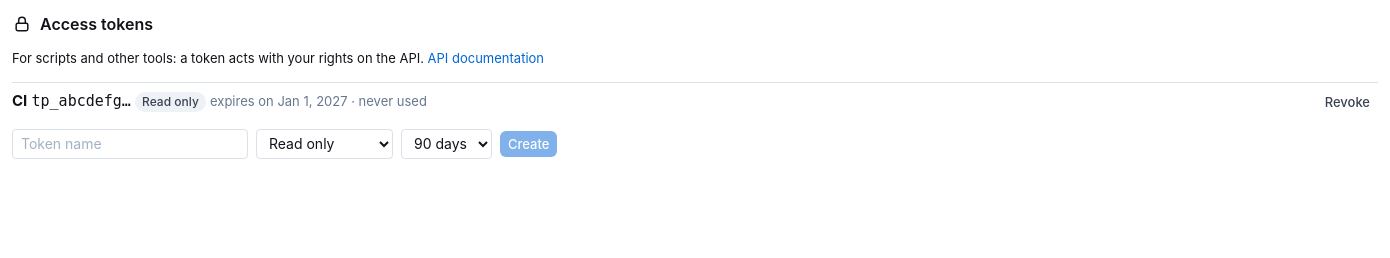
access tokens › are created with a scope and a lifetime, and shown once
In the field labelled "Token name": (130, 144) [12,128,248,158], type "Script"
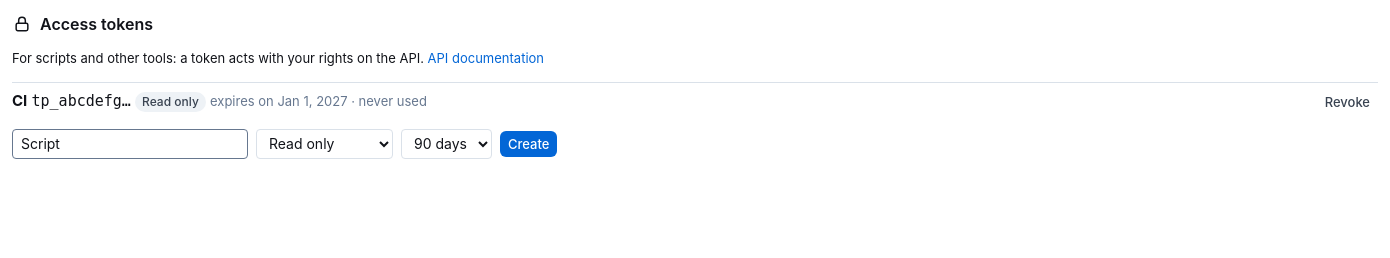
Select "Read and write" in the dropdown named "What the token may do": (324, 144) [256,128,393,158]
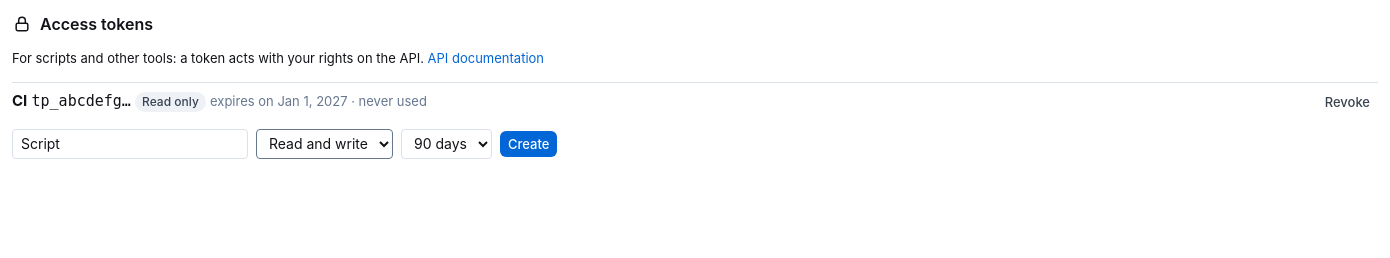
Select "1 year" in the dropdown named "Valid for": (446, 144) [401,128,492,158]
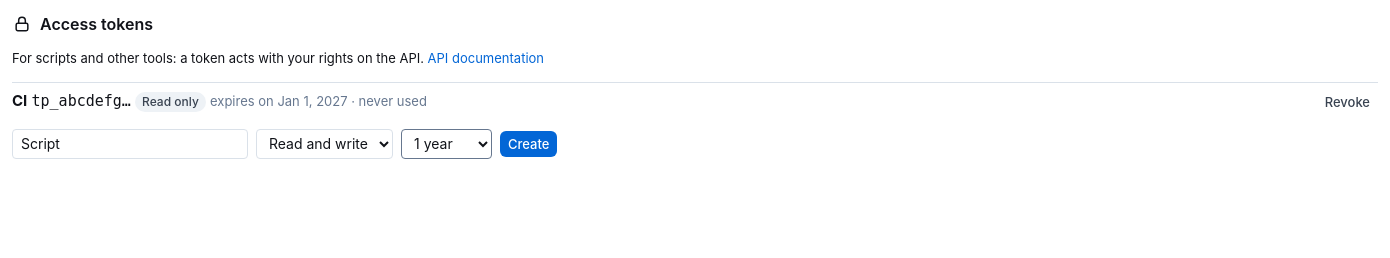
Click the button "Create": (529, 144) [500,130,557,156]
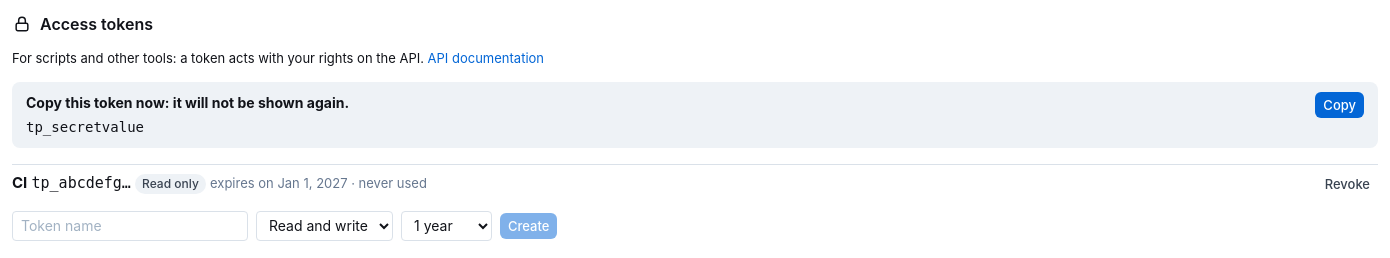
Expected: the text "tp_secretvalue" is shown, [26,118,144,134]
Expected: the text "Copy this token now: it will not be shown again." is shown, [26,94,349,110]
